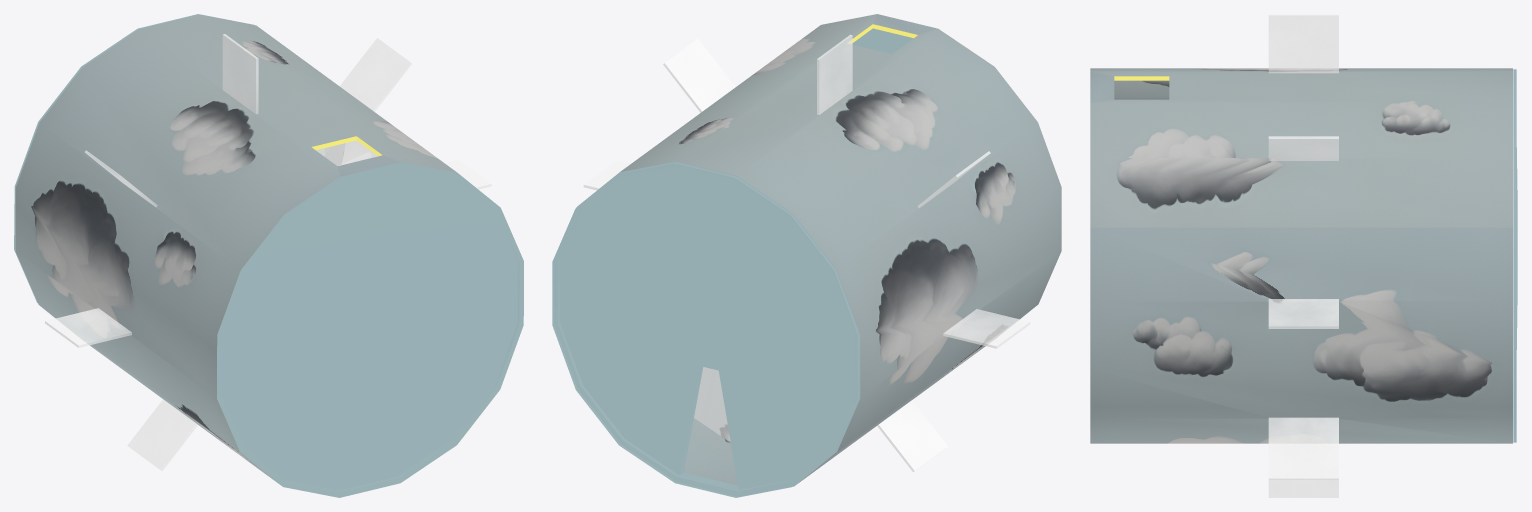
Rendered from cylinderMazeInner.glb.
3 views of the same model, side by side, from view 1: azimuth 30°, elevation 25°; view 2: azimuth 150°, elevation 25°; view 3: azimuth 270°, elevation 25° (orthographic). The views are drawn at different scales.
Parts seen in each view (by area): view 1: cylinderInner; view 2: cylinderInner; view 3: cylinderInner.
Part boxes in pixels (x1,y1,x2,y2): cylinderInner: (14,14,523,497); cylinderInner: (552,14,1061,497); cylinderInner: (1090,14,1517,497).
Size of what is drawn, in the model's own units: 18.21 by 18.18 by 15.55.
Materials: 4 (2 with a texture image).
